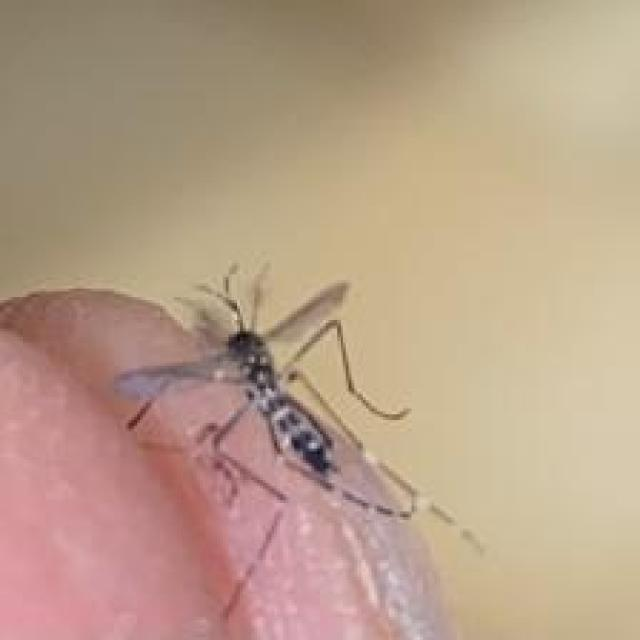Aedes albopictus: (113, 257, 484, 634)
